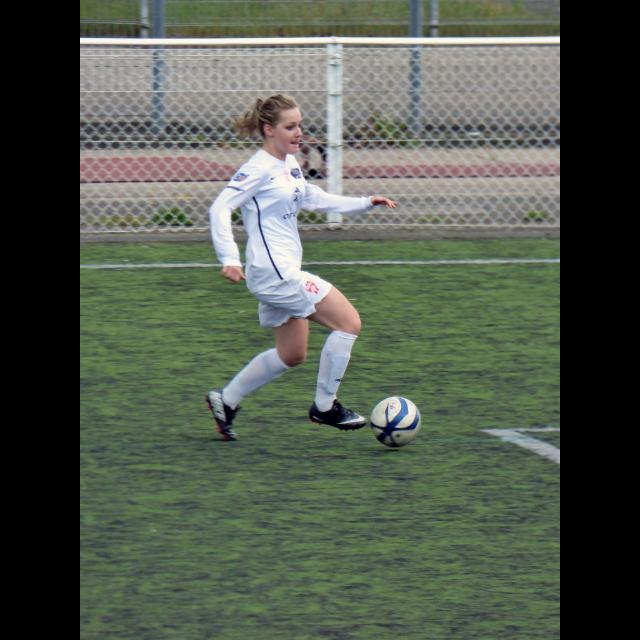Football: (369, 394, 425, 446)
